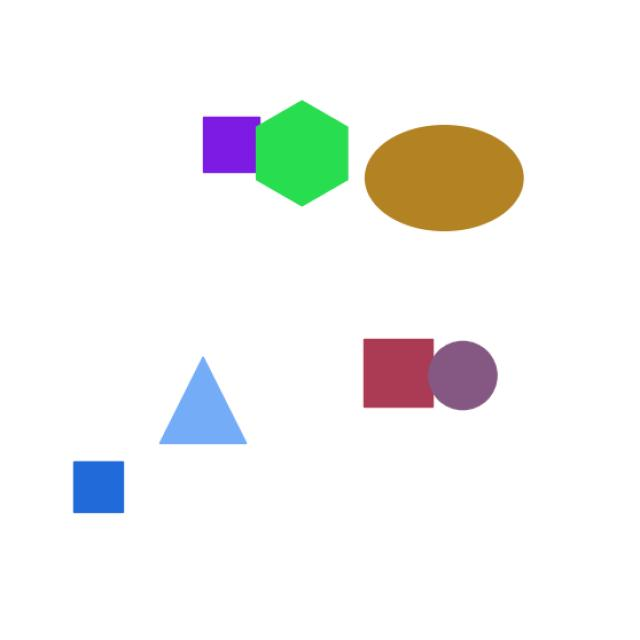Circle: (422, 333, 503, 411)
Hexagon: (248, 99, 358, 222)
Oval: (356, 125, 529, 246)
Triangle: (145, 359, 274, 462)
square: (63, 452, 159, 551), (355, 336, 446, 431), (183, 104, 271, 180)
